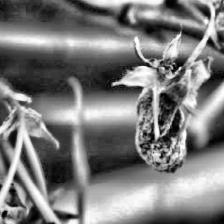Gray Mold: (113, 30, 212, 175)
